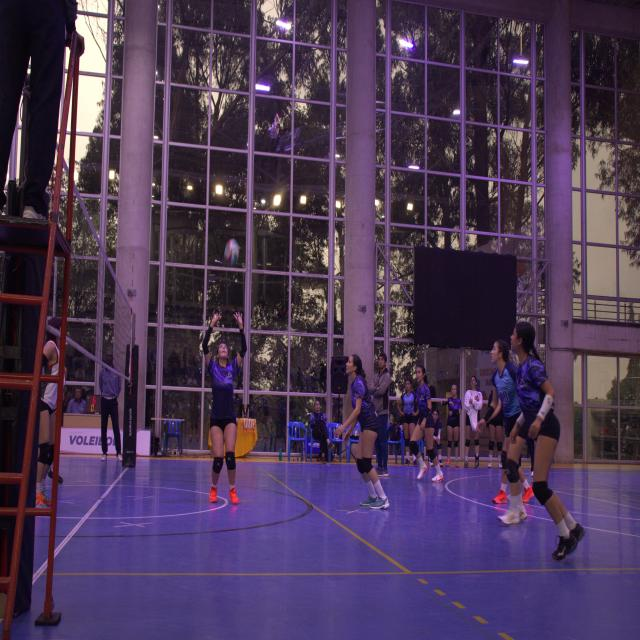volleyball: (224, 240, 240, 266)
